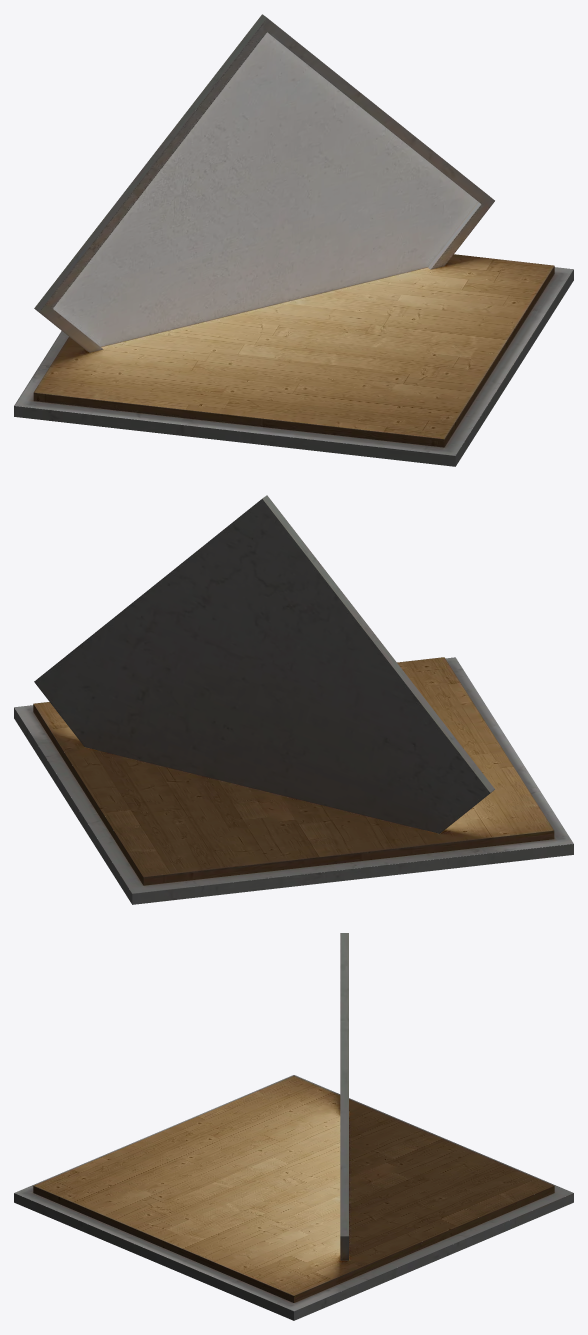
Rendered from angled stage.glb.
The picture shows the model from 3 angles, top to bottom: view 1: azimuth 30°, elevation 25°; view 2: azimuth 150°, elevation 25°; view 3: azimuth 270°, elevation 25°; orthographic projection. The views are drawn at different scales.
Parts seen in each view (by area): view 1: angled stage; view 2: angled stage; view 3: angled stage.
Part boxes in pixels (x1,y1,x2,y2): angled stage: [14, 14, 573, 466]; angled stage: [14, 495, 573, 904]; angled stage: [14, 933, 573, 1320].
Size of the model in its own units: 7.9 by 4.2 by 7.9.
Materials: 2 (1 with a texture image).
